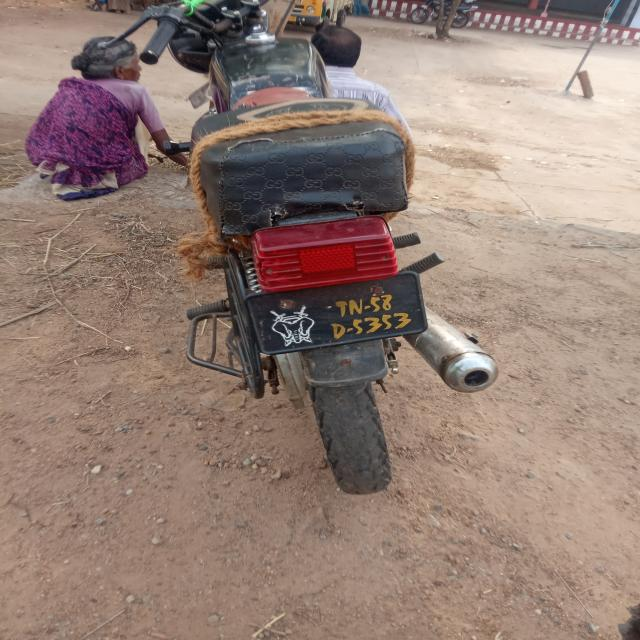Number_Plate_Detected: (246, 273, 430, 359)
